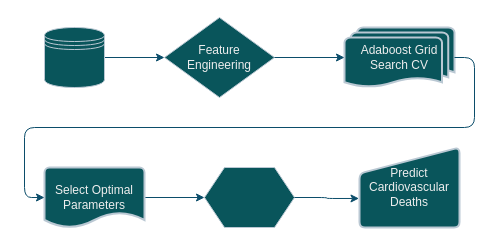
This 500x246 diagram has some shape labels left out. The box of each missing label's shape, as (x1, y1, x2, y2) in pixels:
Data: (44, 26, 104, 88)
Model Fit: (204, 166, 294, 228)
